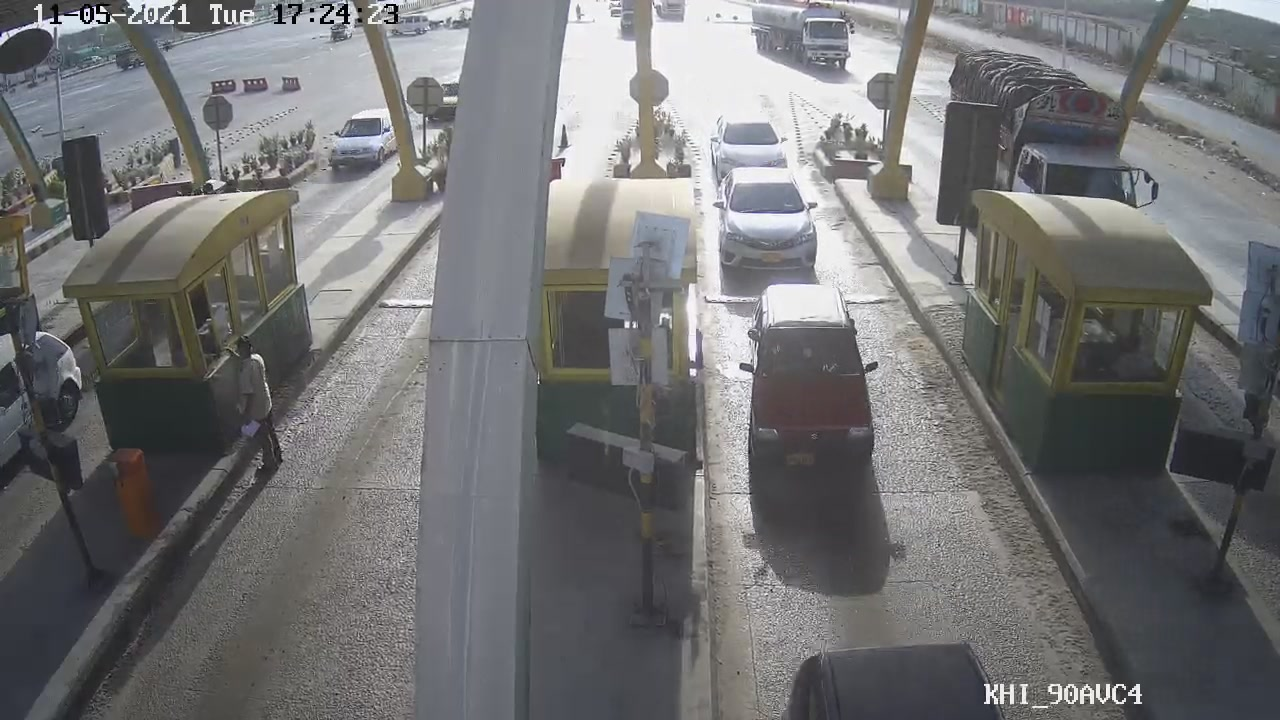F1: (730, 280, 885, 473), (713, 164, 824, 273)
